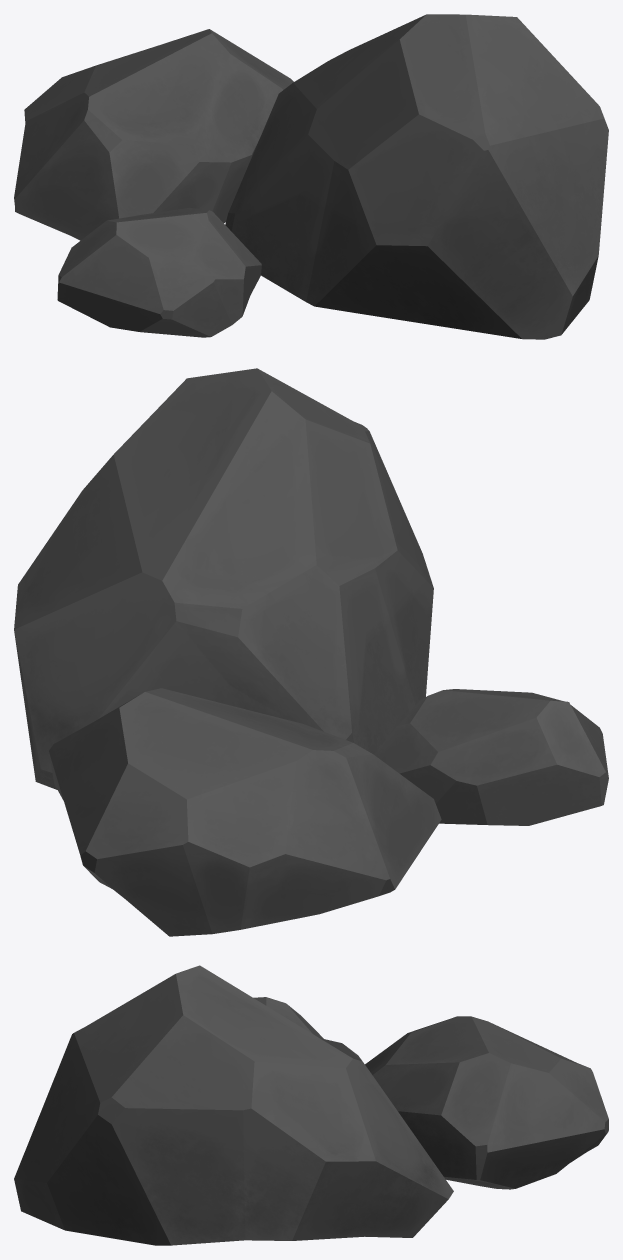
The model's file is Stones.fbx.
3 renders of one model, top to bottom at view 1: azimuth 30°, elevation 25°; view 2: azimuth 150°, elevation 25°; view 3: azimuth 270°, elevation 25°, orthographic. The views are drawn at different scales.
Visible parts, largest first — view 1: Icosphere.018; view 2: Icosphere.018; view 3: Icosphere.018.
Boxes of the visible parts, x1,y1,x2,y2 form: Icosphere.018: (14, 14, 608, 339); Icosphere.018: (14, 368, 608, 936); Icosphere.018: (14, 965, 608, 1245).
Size of the model in its own units: 75.61 by 41.49 by 89.39.
